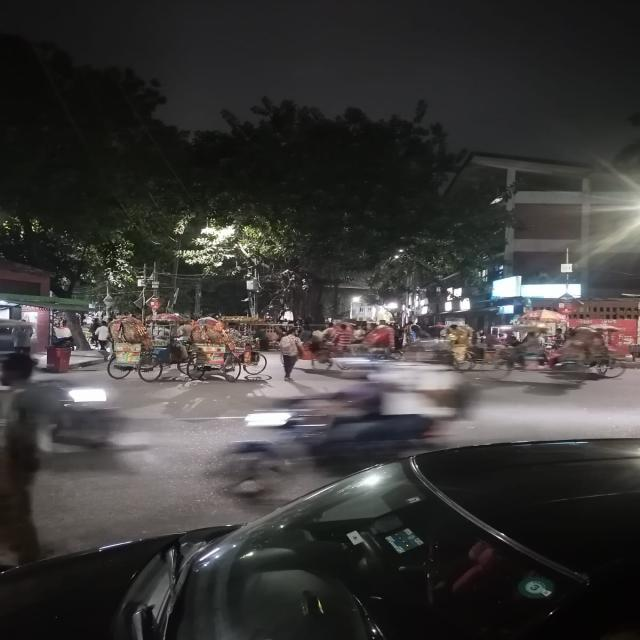person: (279, 327, 303, 382)
